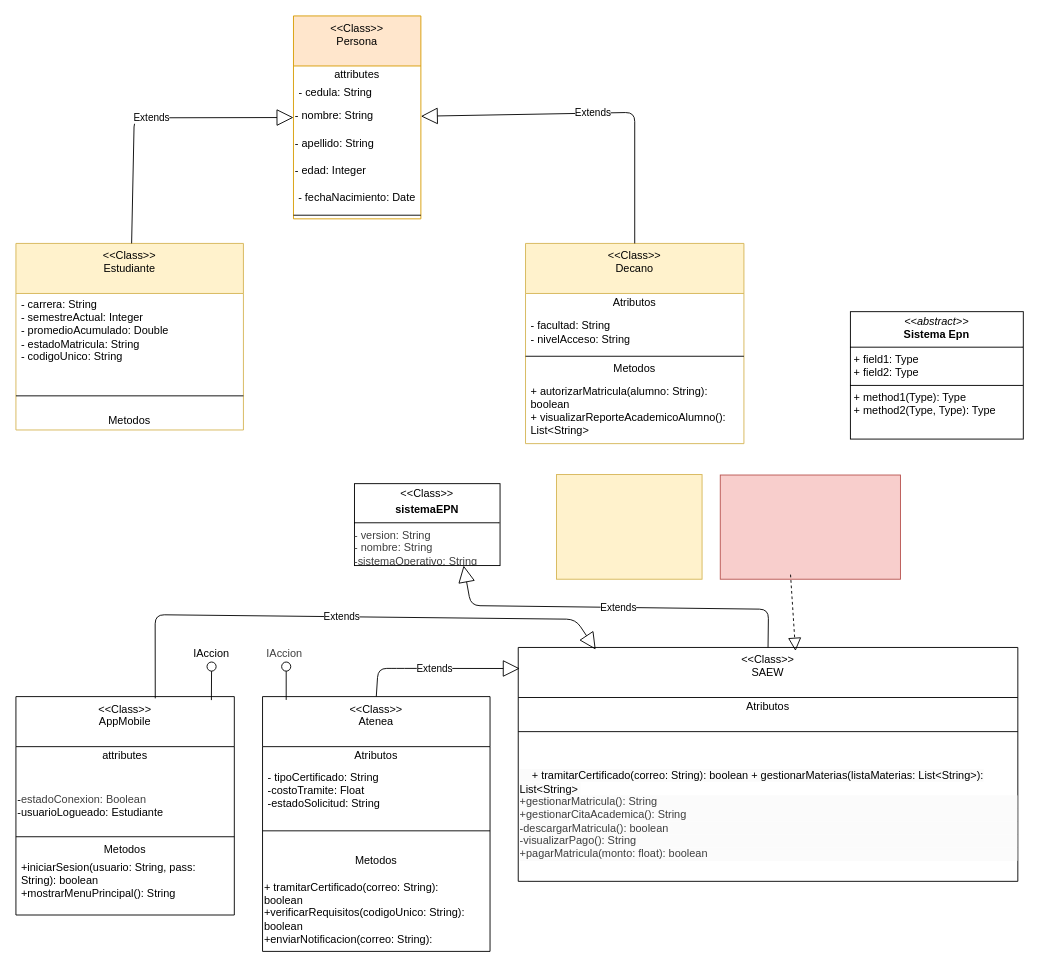
Some shapes in this 1039 by 967 pixel diagram are drawn without their labels. Each missing label, with the centre of its shape:
"<<Class>> ControllerSystem + on():boolean + off():boolean" belongs at point (629, 526).
"<<Interface>> IAccion + on():Boolean + off():Boolean" belongs at point (809, 526).
